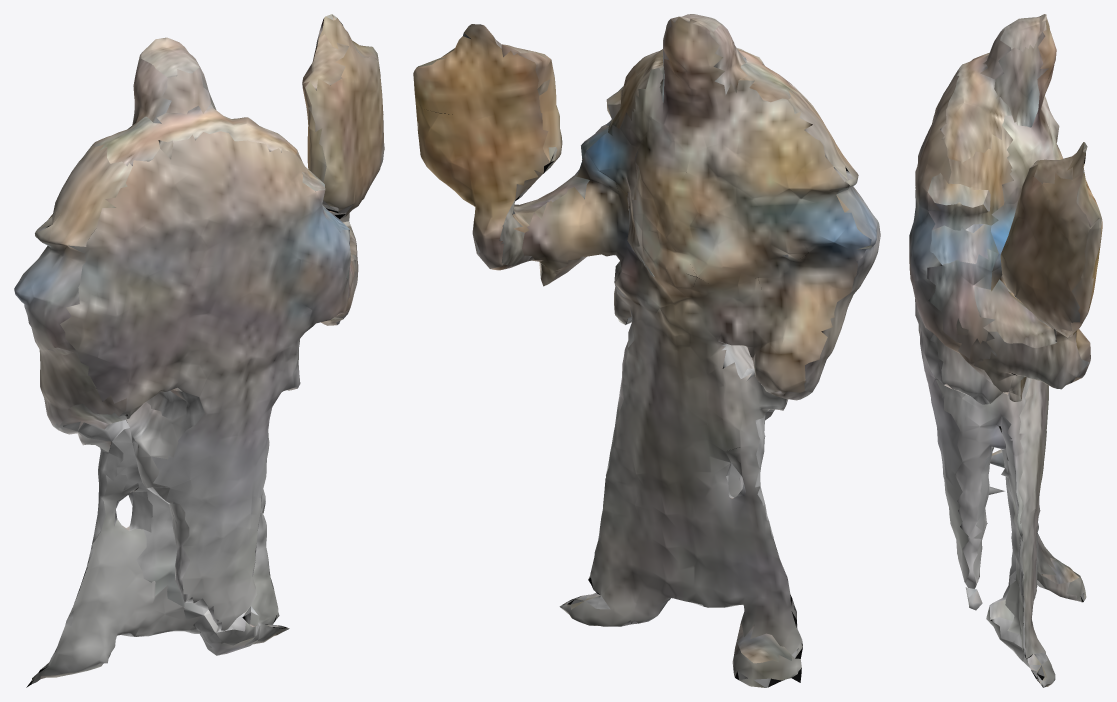
The picture shows the model from 3 angles, left to right: view 1: azimuth 30°, elevation 25°; view 2: azimuth 150°, elevation 25°; view 3: azimuth 270°, elevation 25°; orthographic projection.
Parts seen in each view (by area): view 1: world; view 2: world; view 3: world.
Part boxes in pixels (x1,y1,x2,y2): world: [14, 14, 384, 687]; world: [413, 14, 880, 687]; world: [909, 14, 1102, 687].
Bounding box in the file's own units: 0.5769 × 0.8462 × 0.2389.
1 material, 1 textured.
